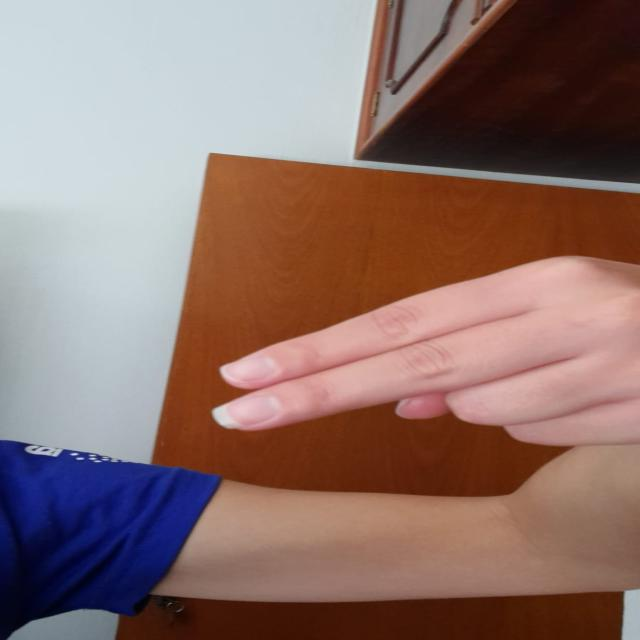N: (203, 242, 640, 456)
